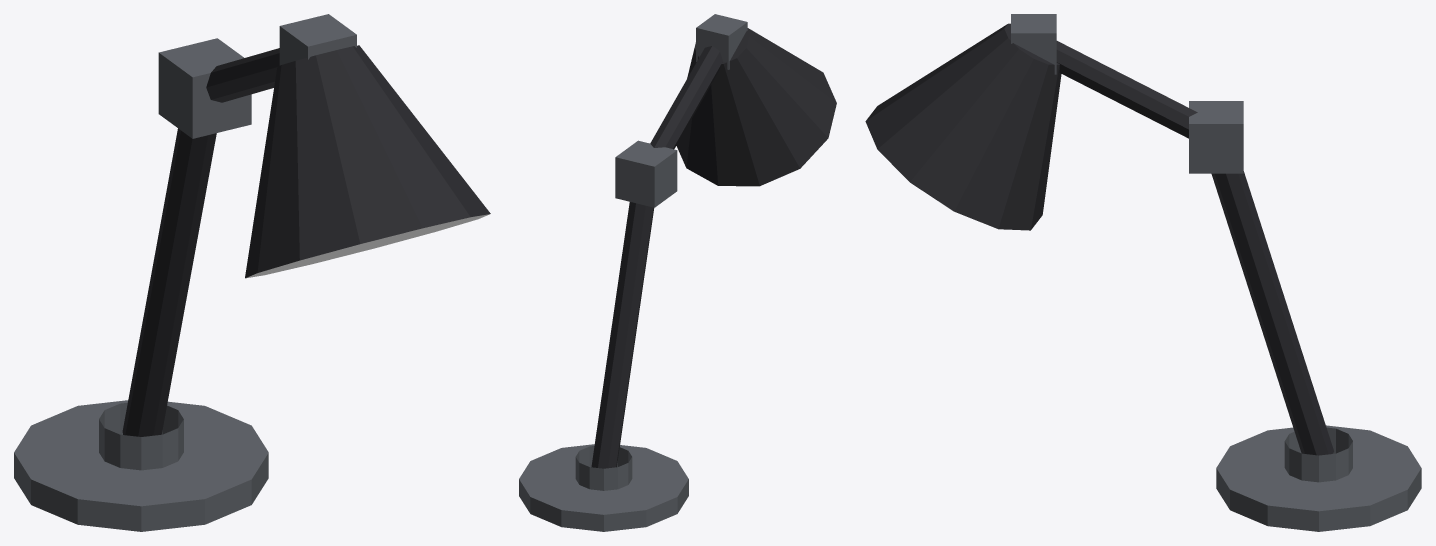
File: FN_Lamp_Desk.obj
3 views of the same model, side by side, from view 1: azimuth 30°, elevation 25°; view 2: azimuth 150°, elevation 25°; view 3: azimuth 270°, elevation 25° (orthographic). The views are drawn at different scales.
Visible parts, largest first — view 1: FN_Lamp_Desk; view 2: FN_Lamp_Desk; view 3: FN_Lamp_Desk.
Part boxes in pixels (left/top/right/bottom): FN_Lamp_Desk: left=14, top=14, right=490, bottom=531; FN_Lamp_Desk: left=519, top=14, right=836, bottom=531; FN_Lamp_Desk: left=865, top=14, right=1421, bottom=531.
Bounding box in the file's own units: 0.18 × 0.45 × 0.4877.
2 materials, 1 textured.
